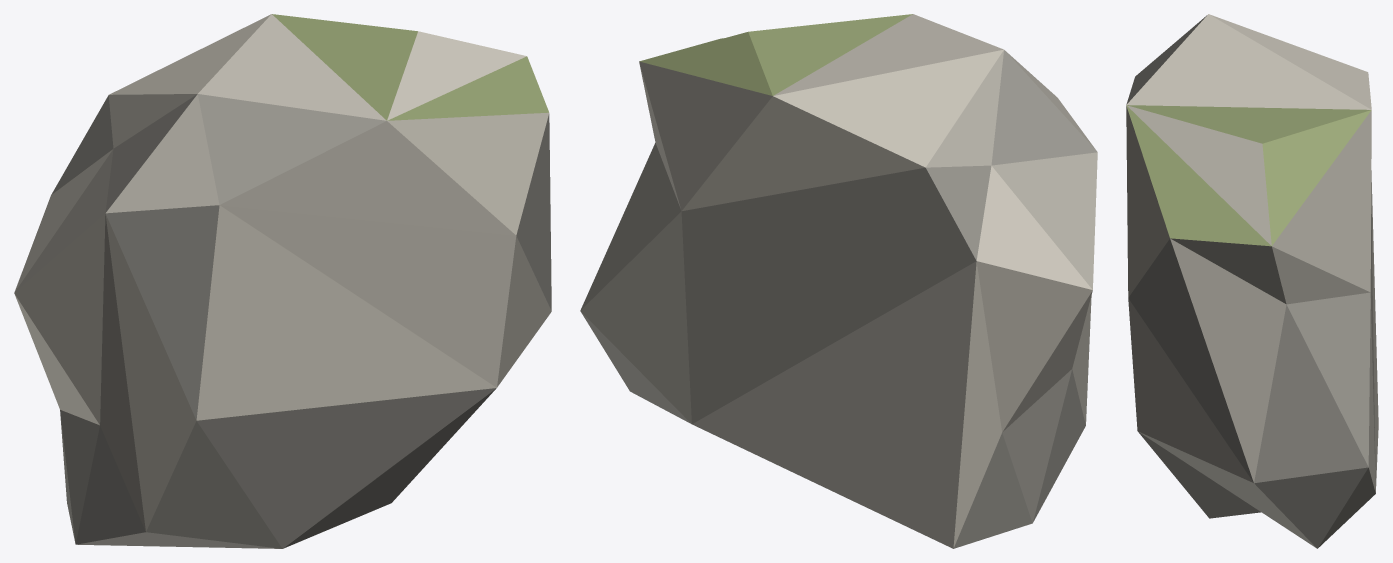
File: Cliff_Rock_1.glb
3 views of the same model, side by side, from view 1: azimuth 30°, elevation 25°; view 2: azimuth 150°, elevation 25°; view 3: azimuth 270°, elevation 25° (orthographic). The views are drawn at different scales.
Visible parts, largest first — view 1: Cliff_Rock_1; view 2: Cliff_Rock_1; view 3: Cliff_Rock_1.
Boxes of the visible parts, x1,y1,x2,y2 form: Cliff_Rock_1: (14, 14, 551, 548); Cliff_Rock_1: (580, 14, 1097, 548); Cliff_Rock_1: (1126, 14, 1378, 548).
Bounding box in the file's own units: 2.39 × 2.06 × 1.1.
